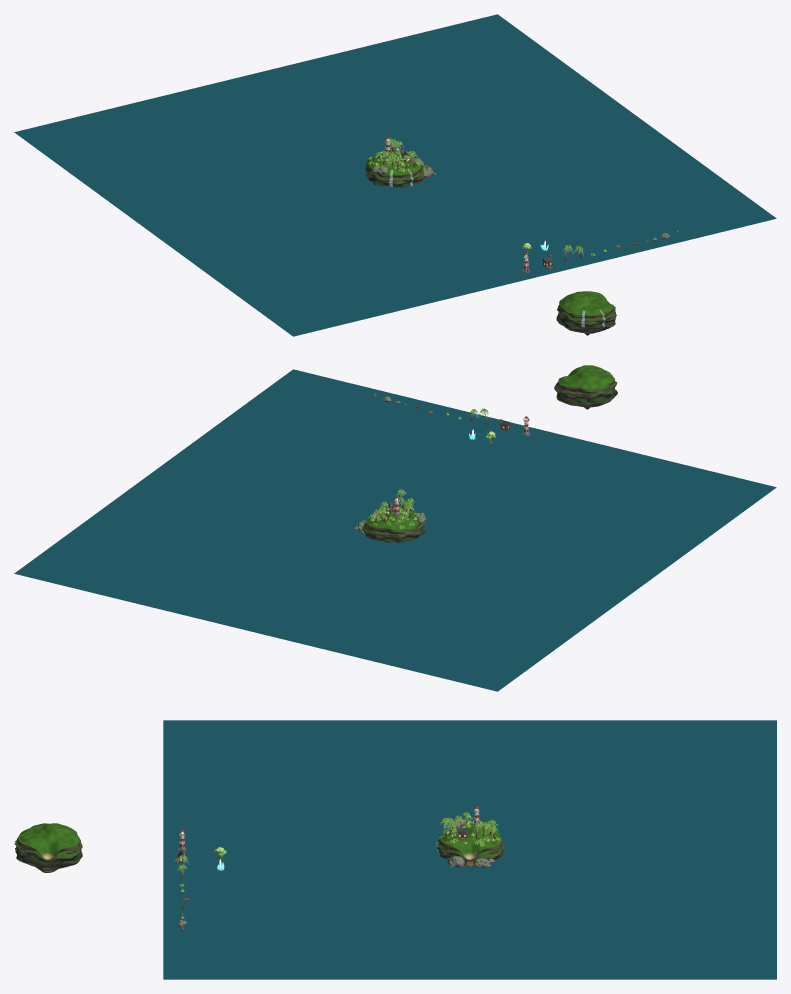
The model's file is OceanWorld_Models.glb.
3 renders of one model, top to bottom at view 1: azimuth 30°, elevation 25°; view 2: azimuth 150°, elevation 25°; view 3: azimuth 270°, elevation 25°, orthographic. The views are drawn at different scales.
Visible parts, largest first — view 1: Ocean_Preview, Island, Island.001; view 2: Ocean_Preview, Island, Island.001; view 3: Ocean_Preview, Island, Island.001.
Part boxes in pixels (x1=…): Ocean_Preview: x1=14, y1=14, x2=776, y2=336; Island: x1=556, y1=291, x2=616, y2=335; Island.001: x1=365, y1=151, x2=424, y2=187; Ocean_Preview: x1=14, y1=369, x2=776, y2=691; Island: x1=554, y1=365, x2=617, y2=409; Island.001: x1=362, y1=506, x2=425, y2=542; Ocean_Preview: x1=163, y1=720, x2=776, y2=979; Island: x1=14, y1=823, x2=82, y2=872; Island.001: x1=436, y1=824, x2=504, y2=863.
Size of the model in its own units: 320 by 37.1 by 398.
